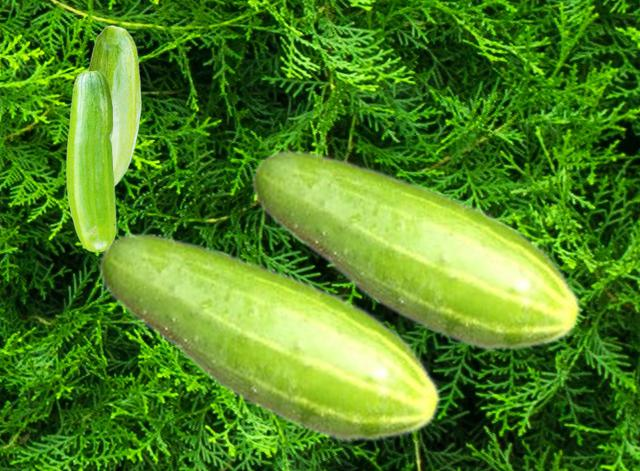cucumber: (98, 232, 441, 443), (251, 149, 581, 352), (66, 70, 115, 251), (87, 25, 140, 185)
